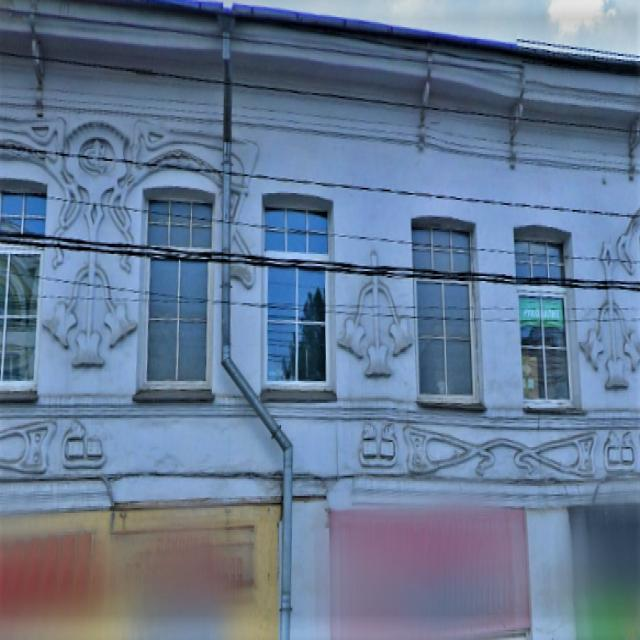Window: (148, 205, 209, 381), (266, 212, 326, 382), (414, 230, 474, 396), (517, 245, 569, 398), (2, 195, 32, 386)
